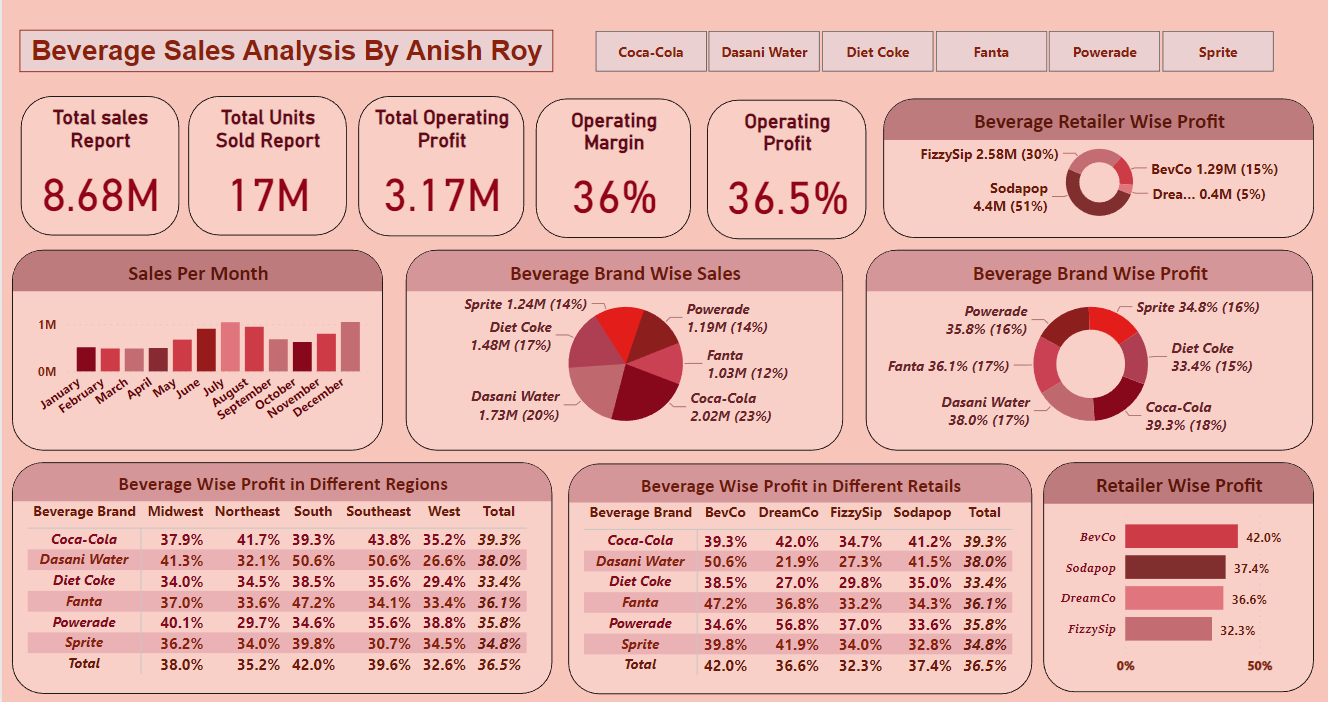

What the dashboard file says about the page in this screenshot:
{"tool":"powerbi","page":{"name":"Page 1","canvas":[1280,720],"ordinal":0},"visuals":[{"type":"card","title":"Total sales Report","fields":{"Values":["Sum(Sheet1.Total Sales)"]},"box":[17.7,130.6,152.4,134.7],"z":0},{"type":"card","title":"Total Units Sold Report","fields":{"Values":["Sum(Sheet1.Units Sold)"]},"box":[179.6,130.6,152.4,134.7],"z":1000},{"type":"card","title":"Total Operating Profit","fields":{"Values":["Sum(Sheet1.Operating Profit)"]},"box":[343.4,130.1,160.2,134.9],"z":2000},{"type":"card","title":"Operating Margin","fields":{"Values":["Avg(Sheet1.Operating Margin)"]},"box":[514.4,132,149.7,134.7],"z":3000},{"type":"card","title":"Operating Profit","fields":{"Values":["Sheet1.Measure"]},"box":[679.1,133.4,153.8,134.7],"z":4000},{"type":"columnChart","title":"Sales Per Month ","fields":{"Y":["Sum(Sheet1.Total Sales)"],"Category":["Sheet1.Invoice Date.Variation.Date Hierarchy.Month"]},"box":[9.6,278.3,357.8,193.3],"z":5000},{"type":"pieChart","title":"Beverage Brand Wise Sales","fields":{"Y":["Sum(Sheet1.Total Sales)"],"Category":["Sheet1.Beverage Brand"]},"box":[389.7,278.1,421.9,193.5],"z":6000},{"type":"donutChart","title":"Beverage Brand Wise Profit","fields":{"Category":["Sheet1.Beverage Brand"],"Y":["Sheet1.Measure"]},"box":[833.1,278.1,431.3,193.5],"z":7000},{"type":"pivotTable","title":"Beverage Wise Profit in Different Regions","fields":{"Rows":["Sheet1.Beverage Brand"],"Columns":["Sheet1.Region"],"Values":["Sheet1.Measure"]},"box":[9.6,482.6,521,223.5],"z":8000},{"type":"pivotTable","title":"Beverage Wise Profit in Different Retails","fields":{"Columns":["Sheet1.Retailer"],"Values":["Sheet1.Measure"],"Rows":["Sheet1.Beverage Brand"]},"box":[545.7,484,447,222.1],"z":9000},{"type":"barChart","title":"Retailer Wise Profit","fields":{"Category":["Sheet1.Retailer"],"Y":["Sheet1.Measure"]},"box":[1003.7,483.7,260.7,221.7],"z":10000},{"type":"donutChart","title":"Beverage Retailer Wise Profit","fields":{"Y":["Sum(Sheet1.Total Sales)"],"Category":["Sheet1.Retailer"]},"box":[849.2,132,415.1,134.7],"z":11000},{"type":"slicer","fields":{"Values":["Sheet1.Beverage Brand"]},"box":[545.5,60.5,704.1,53.7],"z":12000},{"type":"textbox","box":[17,66,514,41],"z":13000}]}

Visuals, with their boxes on the page's 1280x720 design canvas (x1, y1, x2, y2). These are canvas units, not pixel positions in the 1328x702 screenshot, which may show the page scaled, cropped or inside an application window:
"Total sales Report" card: box=[18, 131, 170, 265]
"Total Units Sold Report" card: box=[180, 131, 332, 265]
"Total Operating Profit" card: box=[343, 130, 504, 265]
"Operating Margin" card: box=[514, 132, 664, 267]
"Operating Profit" card: box=[679, 133, 833, 268]
"Sales Per Month " columnChart: box=[10, 278, 367, 472]
"Beverage Brand Wise Sales" pieChart: box=[390, 278, 812, 472]
"Beverage Brand Wise Profit" donutChart: box=[833, 278, 1264, 472]
"Beverage Wise Profit in Different Regions" pivotTable: box=[10, 483, 531, 706]
"Beverage Wise Profit in Different Retails" pivotTable: box=[546, 484, 993, 706]
"Retailer Wise Profit" barChart: box=[1004, 484, 1264, 705]
"Beverage Retailer Wise Profit" donutChart: box=[849, 132, 1264, 267]
slicer - Sheet1.Beverage Brand: box=[546, 60, 1250, 114]
textbox: box=[17, 66, 531, 107]
